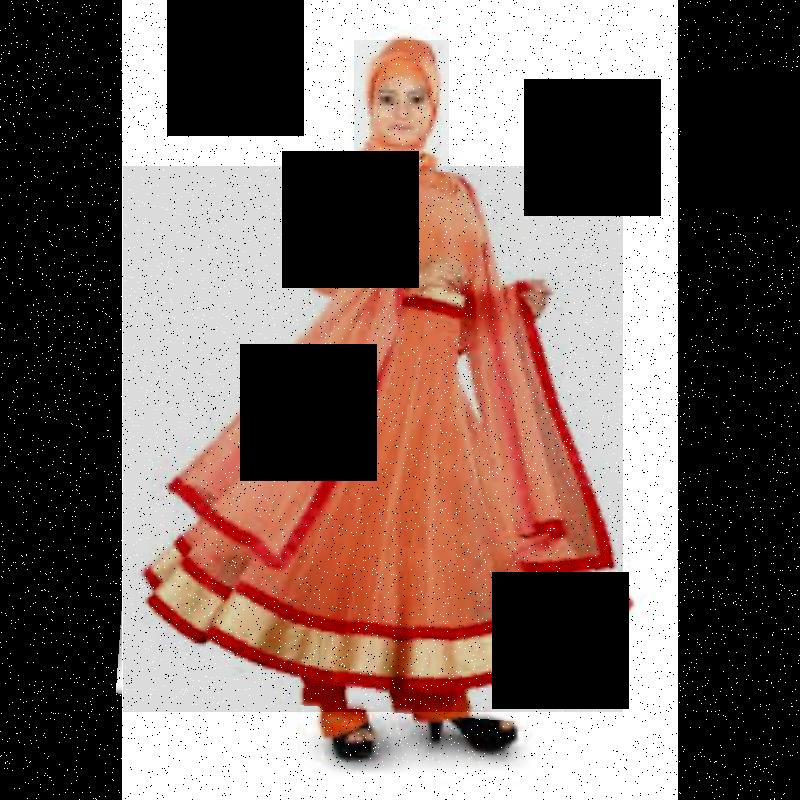Churidaar: (123, 166, 623, 712)
Hijab: (354, 41, 448, 200)
